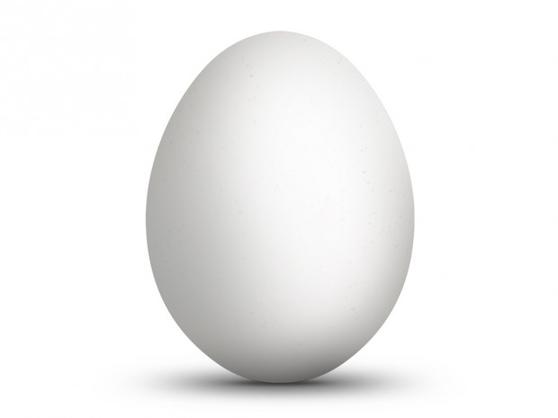egg: (139, 27, 417, 386)
